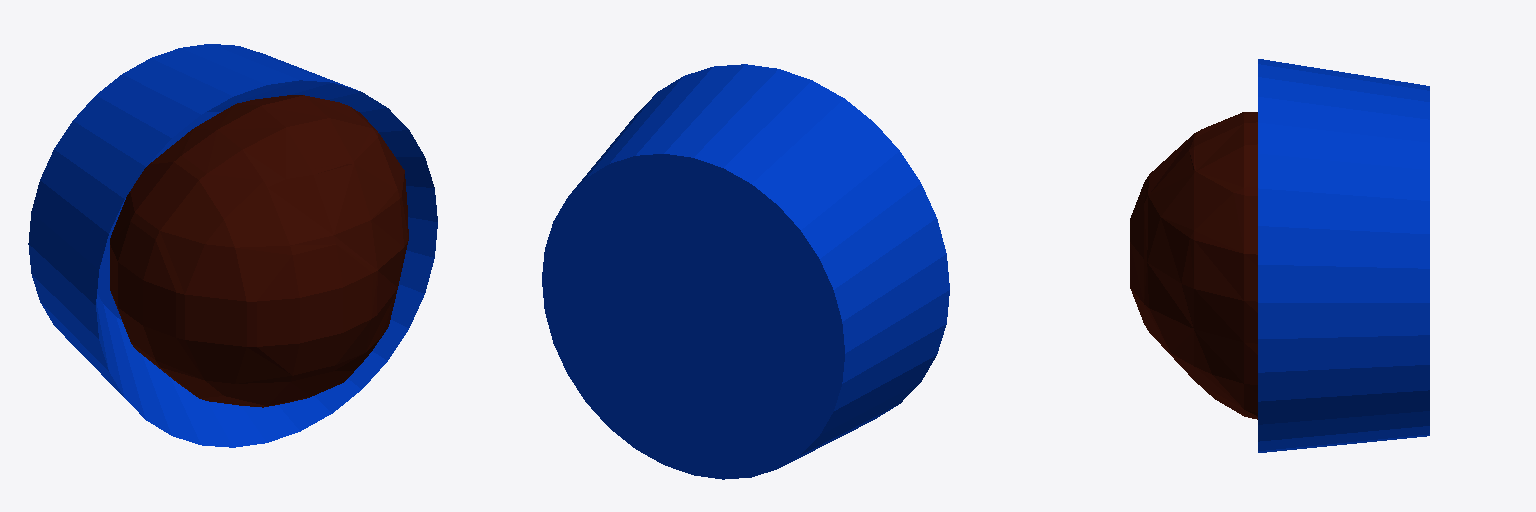
File: food.obj
The picture shows the model from 3 angles: view 1: azimuth 30°, elevation 25°; view 2: azimuth 150°, elevation 25°; view 3: azimuth 270°, elevation 25°; orthographic projection.
Parts seen in each view (by area): view 1: Mball, Cylinder; view 2: Cylinder; view 3: Cylinder, Mball.
Boxes of the visible parts, x1=… form: Mball: x1=110, y1=95, x2=408, y2=407; Cylinder: x1=28, y1=44, x2=437, y2=447; Cylinder: x1=542, y1=64, x2=949, y2=479; Cylinder: x1=1258, y1=59, x2=1429, y2=452; Mball: x1=1130, y1=112, x2=1257, y2=419.
Bounding box in the file's own units: 2 × 2 × 1.52.